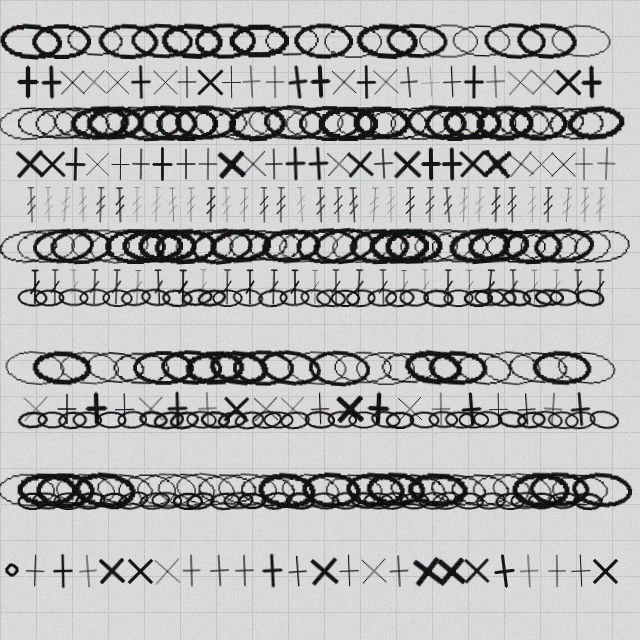chain: (257, 346, 324, 390), (172, 468, 239, 511), (426, 468, 491, 512), (311, 224, 376, 267), (385, 468, 450, 511), (489, 468, 554, 511), (86, 225, 152, 267), (189, 225, 255, 267), (554, 347, 619, 389), (402, 346, 465, 389), (2, 347, 68, 388), (551, 225, 615, 267), (207, 347, 271, 389), (93, 469, 157, 511), (278, 469, 342, 511), (82, 347, 147, 388), (505, 347, 570, 388), (72, 469, 137, 510), (154, 469, 219, 510), (453, 347, 516, 389), (49, 102, 113, 143), (329, 225, 393, 266), (447, 225, 511, 266), (570, 225, 634, 266), (479, 347, 543, 388), (31, 226, 96, 266), (307, 348, 372, 388), (208, 226, 272, 266), (276, 226, 340, 266), (57, 348, 121, 388), (53, 470, 117, 510), (492, 102, 554, 143), (0, 21, 63, 61), (0, 225, 60, 267), (260, 226, 323, 266), (532, 226, 595, 266), (344, 470, 407, 510), (570, 470, 633, 510), (515, 21, 579, 60), (246, 103, 310, 142), (262, 103, 326, 142), (295, 226, 359, 265), (466, 226, 530, 265), (159, 348, 223, 387), (285, 348, 349, 387), (215, 470, 279, 509), (565, 103, 627, 143), (237, 470, 299, 510), (256, 470, 318, 510), (160, 21, 223, 60), (355, 21, 418, 60), (483, 21, 546, 60), (102, 103, 165, 142), (457, 103, 520, 142), (525, 103, 588, 142), (14, 226, 77, 265), (226, 226, 289, 265), (412, 226, 475, 265), (300, 470, 363, 509), (448, 470, 511, 509), (385, 22, 449, 60), (119, 104, 183, 142), (153, 227, 217, 265), (64, 21, 126, 60), (405, 103, 467, 142), (173, 226, 235, 265), (365, 470, 427, 509), (97, 22, 160, 60), (130, 22, 193, 60), (450, 22, 513, 60), (549, 22, 612, 60), (49, 227, 112, 265), (348, 227, 411, 265), (501, 227, 564, 265), (69, 104, 131, 142), (210, 104, 272, 142), (283, 104, 345, 142), (31, 349, 93, 387), (184, 349, 246, 387), (427, 349, 489, 387), (531, 349, 593, 387), (406, 471, 468, 509), (549, 471, 611, 509), (194, 22, 257, 59), (136, 104, 199, 141), (232, 349, 295, 386), (135, 471, 198, 508), (195, 471, 258, 508), (470, 471, 533, 508), (528, 471, 591, 508), (85, 104, 146, 142), (227, 104, 288, 142), (546, 104, 607, 142), (378, 349, 439, 387), (323, 471, 384, 509), (417, 22, 479, 59), (174, 104, 236, 141), (69, 227, 131, 264), (518, 227, 580, 264), (332, 349, 394, 386), (155, 105, 218, 141), (298, 105, 361, 141), (104, 228, 167, 264), (484, 228, 547, 264), (132, 350, 195, 386), (354, 350, 417, 386), (32, 104, 93, 141), (190, 104, 251, 141), (508, 104, 569, 141), (368, 227, 429, 264), (398, 227, 459, 264), (429, 227, 490, 264), (110, 349, 171, 386), (0, 104, 59, 142), (15, 105, 77, 141), (335, 105, 397, 141), (367, 105, 429, 141), (424, 105, 486, 141), (121, 228, 183, 264), (262, 22, 322, 59), (293, 22, 353, 59), (475, 104, 535, 141), (384, 227, 444, 264), (511, 471, 571, 508), (228, 23, 289, 59), (322, 23, 383, 59), (317, 105, 378, 141), (442, 105, 503, 141), (137, 228, 198, 264), (16, 472, 77, 508), (35, 472, 96, 508), (116, 472, 177, 508), (31, 23, 91, 59), (352, 105, 412, 141), (388, 105, 448, 141), (245, 228, 305, 264), (0, 471, 56, 508), (116, 488, 150, 513), (184, 489, 217, 513), (588, 408, 620, 431), (299, 287, 332, 309), (152, 409, 185, 431), (233, 409, 266, 431), (138, 490, 171, 512), (196, 287, 228, 309), (501, 287, 533, 309), (521, 287, 553, 309), (574, 287, 606, 309), (168, 409, 200, 431), (216, 409, 248, 431), (431, 490, 464, 511), (120, 287, 152, 308), (181, 287, 213, 308), (232, 287, 264, 308), (251, 409, 283, 430), (496, 409, 528, 430), (531, 409, 563, 430), (74, 490, 106, 511), (260, 490, 292, 511), (378, 490, 410, 511), (140, 287, 171, 308), (486, 287, 517, 308), (138, 409, 169, 430), (370, 409, 401, 430), (161, 288, 193, 308), (315, 288, 347, 308), (422, 288, 454, 308), (279, 410, 311, 430), (444, 410, 476, 430), (547, 410, 579, 430), (564, 410, 596, 430), (209, 491, 241, 511), (475, 491, 507, 511), (257, 288, 288, 308), (345, 288, 376, 308), (384, 288, 415, 308), (17, 410, 48, 430), (57, 410, 88, 430), (516, 410, 547, 430), (31, 491, 62, 511), (309, 491, 340, 511), (572, 491, 603, 511), (17, 288, 48, 307), (58, 288, 89, 307), (79, 288, 110, 307), (279, 288, 310, 307), (474, 288, 505, 307), (549, 288, 580, 307), (186, 410, 217, 429), (304, 410, 335, 429), (472, 410, 503, 429), (151, 491, 182, 510), (223, 491, 254, 510), (418, 491, 449, 510), (510, 491, 541, 510), (548, 491, 579, 510), (367, 288, 397, 307), (399, 288, 429, 307), (534, 288, 564, 307), (117, 410, 147, 429), (200, 410, 230, 429), (327, 410, 357, 429), (428, 410, 458, 429), (285, 491, 315, 510), (331, 491, 361, 510), (350, 491, 380, 510), (34, 289, 65, 307), (102, 289, 133, 307), (212, 289, 243, 307), (443, 289, 474, 307), (96, 411, 127, 429), (263, 411, 294, 429), (348, 411, 379, 429), (409, 411, 440, 429), (458, 411, 489, 429), (17, 492, 48, 510), (53, 492, 84, 510), (172, 492, 203, 510), (363, 492, 394, 510), (399, 492, 430, 510), (453, 492, 484, 510), (495, 492, 526, 510), (330, 289, 360, 307), (463, 289, 493, 307), (37, 411, 67, 429), (72, 411, 102, 429), (385, 411, 415, 429), (99, 492, 129, 510), (237, 492, 267, 510), (527, 492, 557, 510)
double: (482, 269, 497, 305), (68, 269, 81, 305), (88, 269, 101, 305), (110, 269, 123, 305), (131, 269, 144, 305), (152, 269, 165, 305), (267, 269, 280, 305), (352, 269, 365, 305), (507, 269, 520, 305), (29, 269, 41, 305), (49, 269, 61, 305), (177, 269, 189, 305), (197, 269, 209, 305), (221, 269, 233, 305), (244, 269, 256, 305), (289, 269, 301, 305), (309, 269, 321, 305), (330, 269, 342, 305), (377, 269, 389, 305), (398, 269, 410, 305), (419, 269, 431, 305), (442, 269, 454, 305), (463, 269, 475, 305), (528, 269, 540, 305), (550, 269, 562, 305), (572, 269, 584, 305), (594, 269, 606, 305)
noise: (4, 562, 20, 578)
single: (278, 62, 318, 102), (407, 551, 447, 591), (484, 551, 524, 591), (501, 144, 540, 183), (390, 63, 428, 101), (501, 63, 539, 101), (212, 145, 250, 183), (341, 145, 379, 183), (452, 390, 490, 428), (507, 390, 545, 428), (534, 390, 572, 428), (561, 390, 599, 428), (69, 552, 107, 590), (148, 552, 186, 590), (278, 552, 316, 590), (305, 552, 343, 590), (380, 552, 418, 590), (432, 552, 470, 590), (510, 552, 548, 590), (75, 63, 112, 100), (233, 63, 270, 100), (302, 63, 339, 100), (325, 63, 362, 100), (367, 63, 404, 100), (411, 63, 448, 100), (433, 63, 470, 100), (477, 63, 514, 100), (525, 63, 562, 100), (11, 145, 48, 182), (234, 145, 271, 182), (277, 145, 314, 182), (300, 145, 337, 182), (320, 145, 357, 182), (365, 145, 402, 182), (454, 145, 491, 182), (478, 145, 515, 182), (588, 145, 625, 182), (17, 390, 54, 427), (78, 390, 115, 427), (132, 390, 169, 427), (159, 390, 196, 427), (189, 390, 226, 427), (247, 390, 284, 427), (274, 390, 311, 427), (301, 390, 338, 427), (331, 390, 368, 427), (360, 390, 397, 427), (391, 390, 428, 427), (16, 552, 53, 589), (93, 552, 130, 589), (173, 552, 210, 589), (201, 552, 238, 589), (226, 552, 263, 589), (254, 552, 291, 589), (330, 552, 367, 589), (355, 552, 392, 589), (458, 552, 495, 589), (562, 552, 599, 589), (10, 64, 46, 100), (33, 64, 69, 100), (54, 64, 90, 100), (99, 64, 135, 100), (123, 64, 159, 100), (147, 64, 183, 100), (169, 64, 205, 100), (192, 64, 228, 100), (213, 64, 249, 100), (257, 64, 293, 100), (348, 64, 384, 100), (456, 64, 492, 100), (550, 64, 586, 100), (573, 64, 609, 100), (34, 146, 70, 182), (57, 146, 93, 182), (79, 146, 115, 182), (102, 146, 138, 182), (123, 146, 159, 182), (144, 146, 180, 182), (168, 146, 204, 182), (190, 146, 226, 182), (256, 146, 292, 182), (389, 146, 425, 182), (413, 146, 449, 182), (434, 146, 470, 182), (523, 146, 559, 182), (545, 146, 581, 182), (566, 146, 602, 182), (49, 391, 85, 427), (106, 391, 142, 427), (218, 391, 254, 427), (423, 391, 459, 427), (480, 391, 516, 427), (45, 553, 81, 589), (122, 553, 158, 589), (539, 553, 575, 589), (587, 553, 623, 589)
treble: (58, 187, 73, 223), (294, 187, 308, 223), (367, 187, 381, 223), (441, 187, 455, 223), (560, 187, 574, 223), (25, 187, 38, 223), (42, 187, 55, 223), (94, 187, 107, 223), (150, 187, 163, 223), (166, 187, 179, 223), (220, 187, 233, 223), (314, 187, 327, 223), (347, 187, 360, 223), (457, 187, 470, 223), (473, 187, 486, 223), (594, 187, 607, 223), (77, 187, 89, 223), (114, 187, 126, 223), (131, 187, 143, 223), (185, 187, 197, 223), (205, 187, 217, 223), (238, 187, 250, 223), (258, 187, 270, 223), (275, 187, 287, 223), (332, 187, 344, 223), (385, 187, 397, 223), (404, 187, 416, 223), (424, 187, 436, 223), (490, 187, 502, 223), (506, 187, 518, 223), (526, 187, 538, 223), (542, 187, 554, 223), (579, 187, 591, 223)
